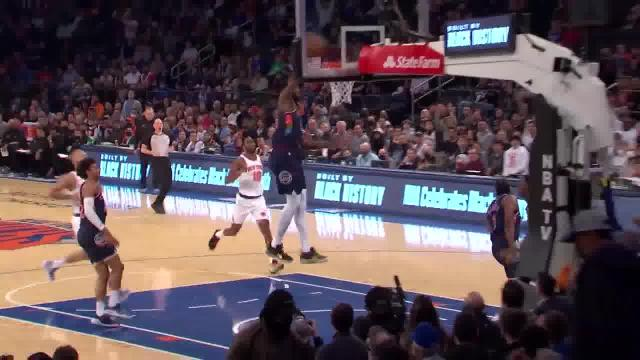ball-handler: (263, 30, 330, 264)
player: (75, 156, 136, 330), (219, 134, 283, 274), (481, 178, 533, 318)
